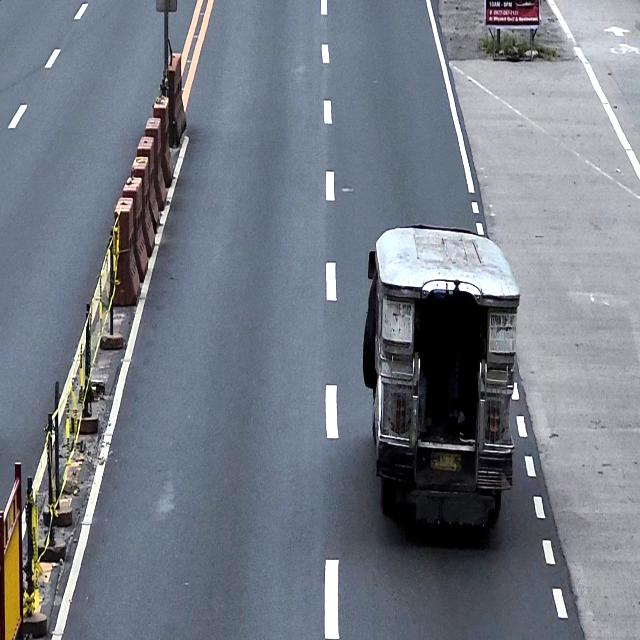Jeep: (362, 222, 521, 533)
License-Plate: (429, 449, 464, 474)
